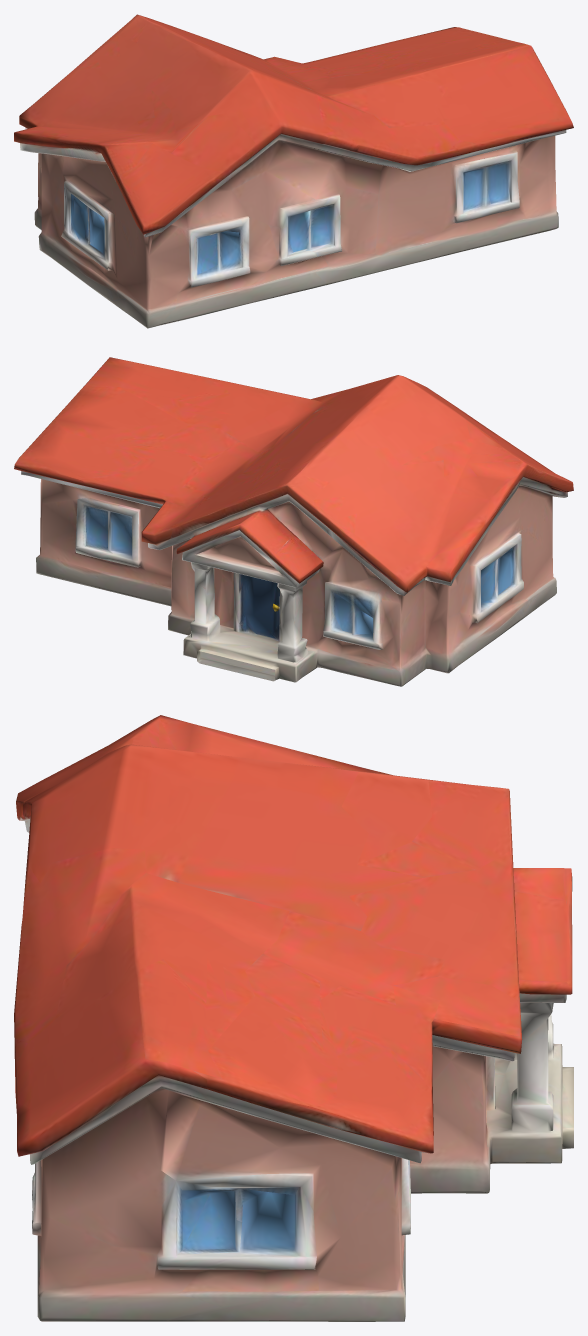
Rendered from casa-n03-4e657411.glb.
3 views of the same model, one above another, from view 1: azimuth 30°, elevation 25°; view 2: azimuth 150°, elevation 25°; view 3: azimuth 270°, elevation 25° (orthographic). The views are drawn at different scales.
Visible parts, largest first — view 1: casa_n03; view 2: casa_n03; view 3: casa_n03.
Part boxes in pixels (x1,y1,x2,y2): casa_n03: [14, 14, 573, 328]; casa_n03: [14, 357, 573, 686]; casa_n03: [14, 715, 573, 1321].
Bounding box in the file's own units: 14.82 × 6.69 × 9.75.
1 material, 1 textured.
